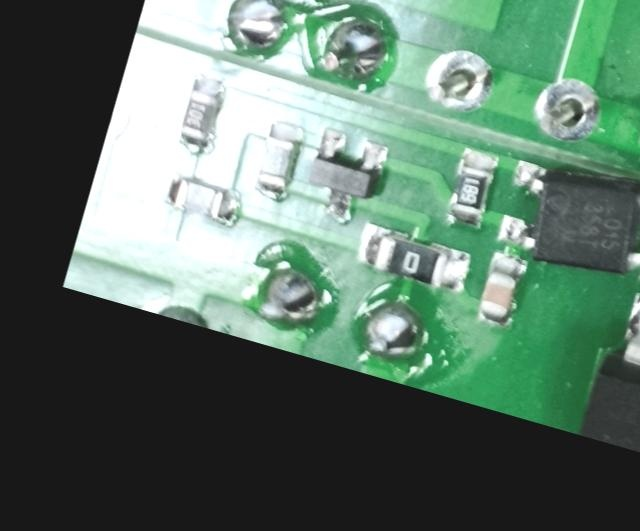chip-capacitor: (472, 247, 531, 331)
chip-resistor: (352, 218, 476, 293), (442, 142, 502, 233), (249, 115, 308, 207), (173, 68, 231, 157), (160, 170, 244, 227)
ic: (488, 143, 640, 294)
transistor: (299, 123, 393, 227)
